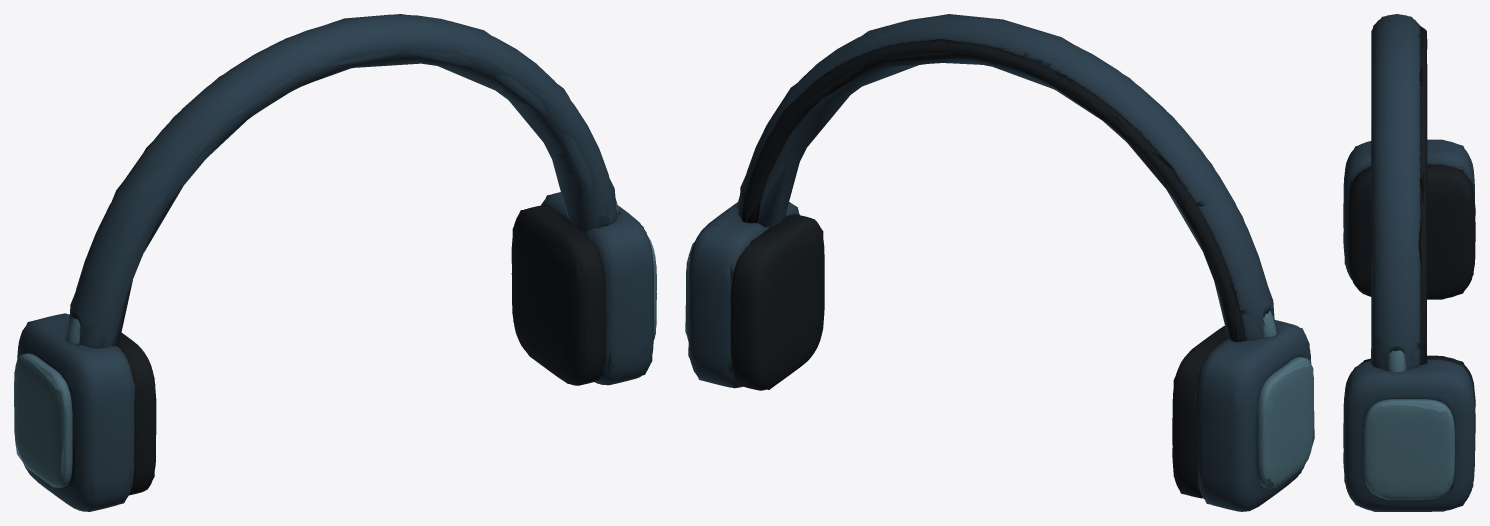
Rendered from headphones.glb.
3 renders of one model, left to right at view 1: azimuth 30°, elevation 25°; view 2: azimuth 150°, elevation 25°; view 3: azimuth 270°, elevation 25°, orthographic. The views are drawn at different scales.
Parts seen in each view (by area): view 1: near, mid, far; view 2: near, mid, far; view 3: near, mid, far.
Boxes of the visible parts, box(x1,y1,x2,y2) form: near: box(14, 14, 656, 511); mid: box(14, 31, 656, 511); far: box(14, 14, 656, 511); near: box(686, 15, 1313, 511); mid: box(686, 31, 1313, 511); far: box(685, 14, 1314, 511); near: box(1343, 14, 1475, 511); mid: box(1343, 21, 1475, 511); far: box(1344, 16, 1474, 511).
Size of the model in its own units: 1.41 by 0.9255 by 0.311.
Materials: 3 (3 with a texture image).
